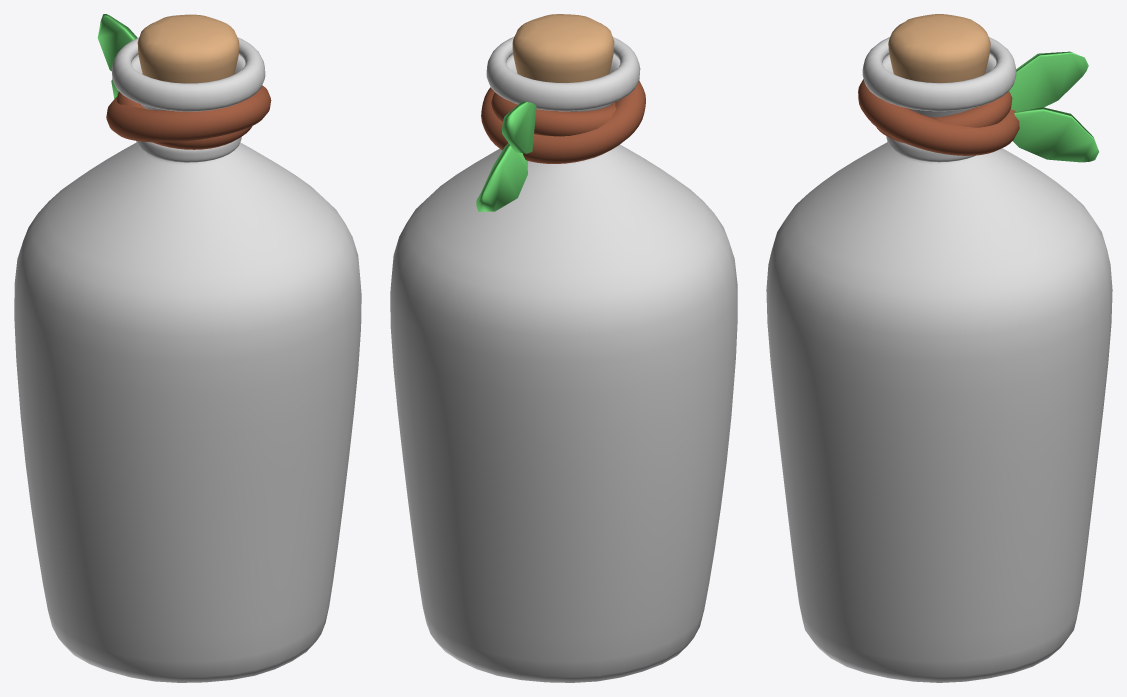
The model's file is PotionManzana.fbx.
3 renders of one model, left to right at view 1: azimuth 30°, elevation 25°; view 2: azimuth 150°, elevation 25°; view 3: azimuth 270°, elevation 25°, orthographic.
Visible parts, largest first — view 1: GLASS, CORK, Torus.001, Cube.002, Torus; view 2: GLASS, CORK, Torus.001, Torus, Cube.003, Cube.002; view 3: GLASS, CORK, Torus.001, Cube.003, Cube.002, Torus.
Boxes of the visible parts, x1,y1,x2,y2 form: GLASS: (14,37,361,682); CORK: (137,14,239,83); Torus.001: (106,85,271,142); Cube.002: (97,14,137,71); Torus: (116,91,252,149); GLASS: (390,37,737,682); CORK: (512,14,614,82); Torus.001: (481,80,645,163); Torus: (491,92,615,136); Cube.003: (476,143,527,211); Cube.002: (502,101,536,153); GLASS: (766,37,1112,682); CORK: (888,14,990,82); Torus.001: (858,79,1019,155); Cube.003: (1013,107,1098,162); Cube.002: (1009,51,1088,112); Torus: (876,91,1012,143).
Bounding box in the file's own units: 499 × 954 × 496.
